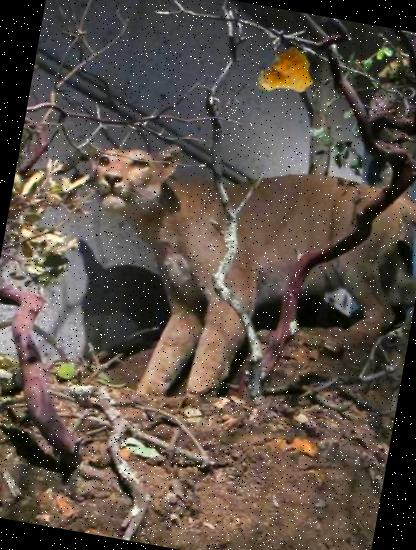Ginger: (251, 42, 319, 110)
